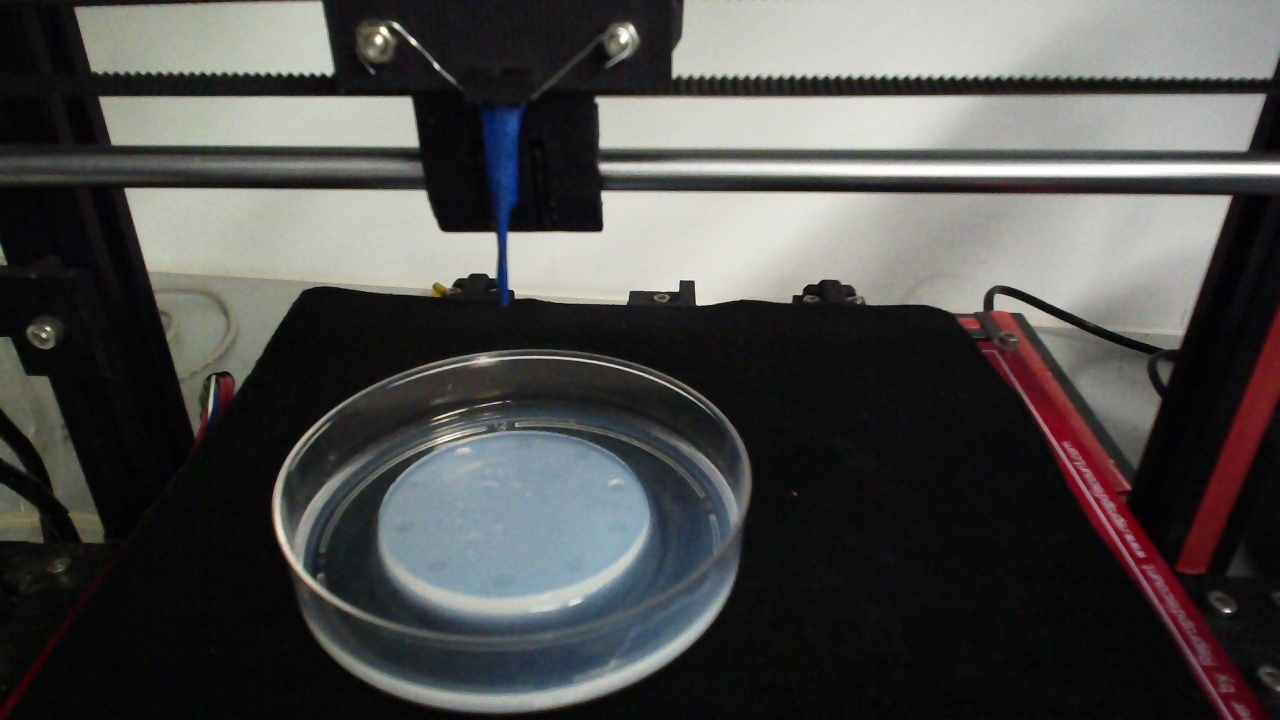groove: (390, 517, 419, 535), (562, 555, 586, 574), (604, 477, 626, 496), (492, 573, 514, 591), (452, 445, 476, 460), (606, 520, 629, 535), (569, 449, 591, 464), (423, 560, 447, 573), (514, 437, 536, 451), (408, 476, 428, 489)
needle: (483, 106, 524, 306)
